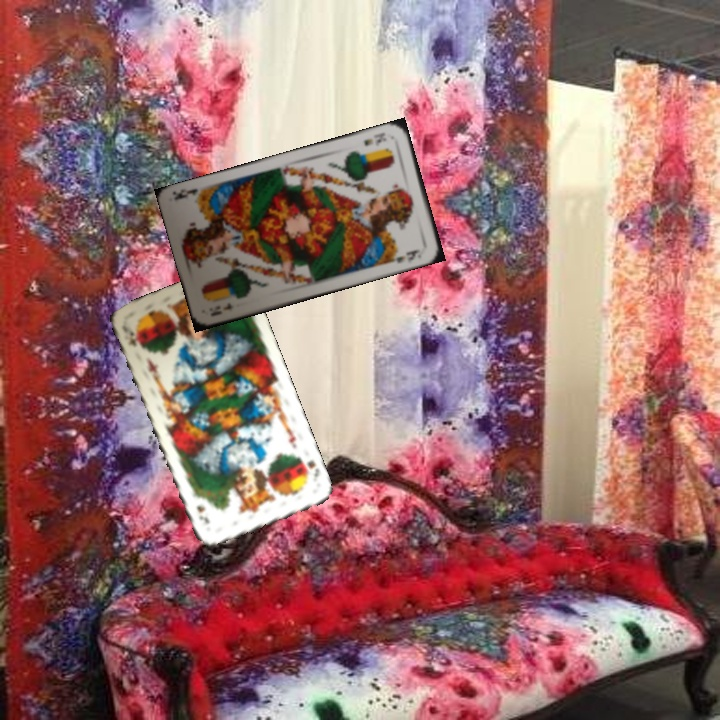EK: (206, 298, 235, 319), (360, 128, 388, 148)
SK: (296, 453, 322, 482), (124, 325, 146, 354)
